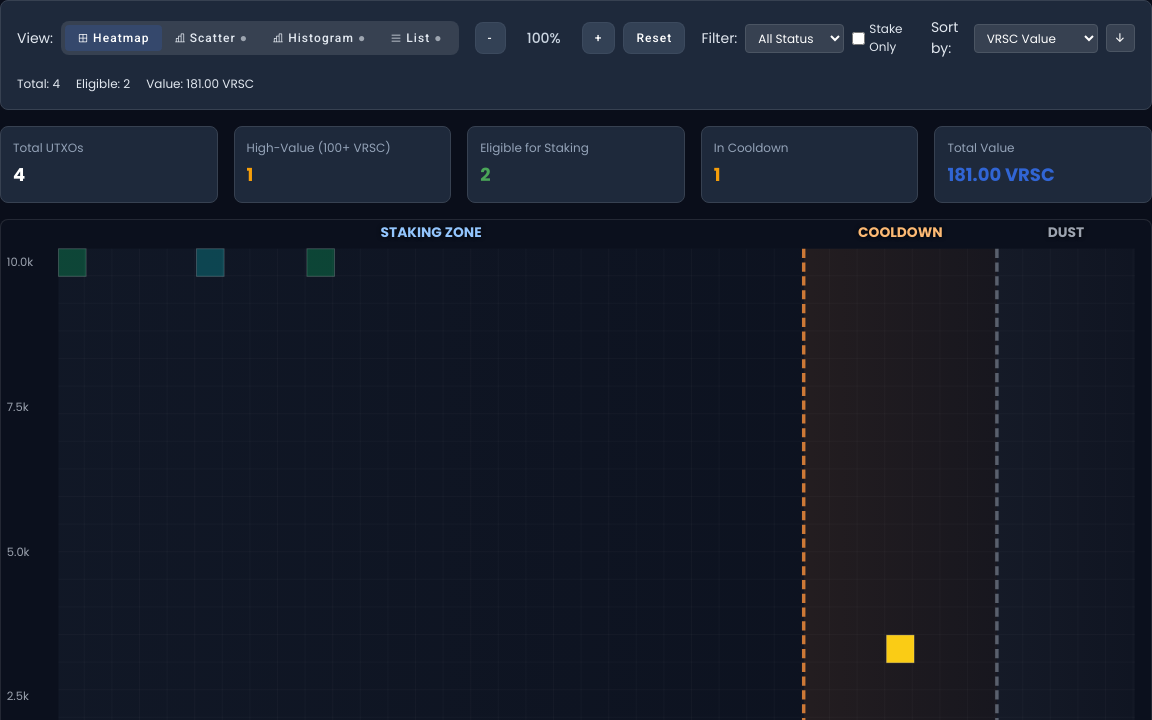
AdvancedUTXOVisualizer Component › List Visualization › should render list view with pagination
The width and height of the screenshot is (1152, 720).
Click the text "List" at [418, 38], box [406,29,430,47]
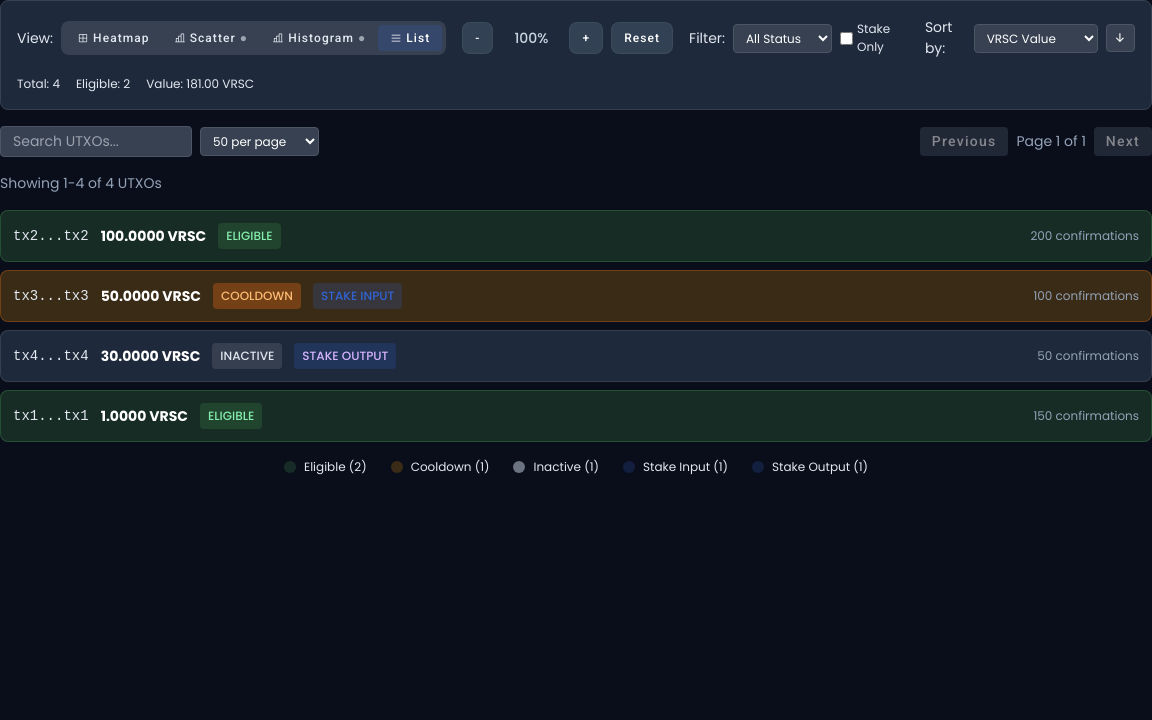
Check: the text "Previous Page 1 of 1 Next" is shown, box [920,127,1151,156]
